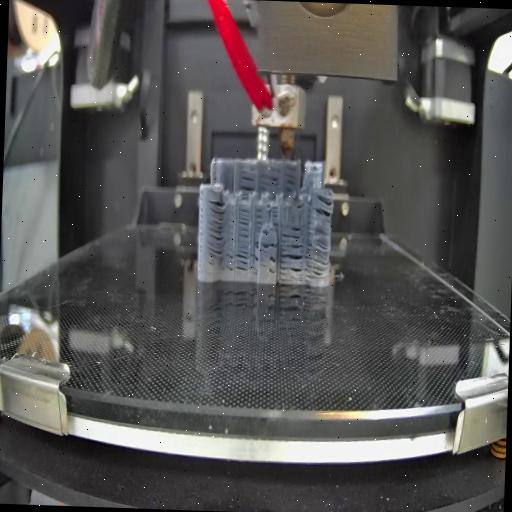cracks: (304, 226, 330, 278), (206, 197, 226, 262), (280, 242, 304, 280), (236, 206, 250, 239), (312, 194, 332, 217), (234, 245, 250, 272), (259, 172, 279, 192), (282, 222, 302, 240), (238, 174, 255, 192), (252, 240, 260, 274), (268, 206, 280, 226), (224, 250, 232, 275), (254, 205, 262, 228), (260, 240, 277, 250), (282, 178, 296, 190), (268, 254, 276, 274), (260, 230, 270, 236)
